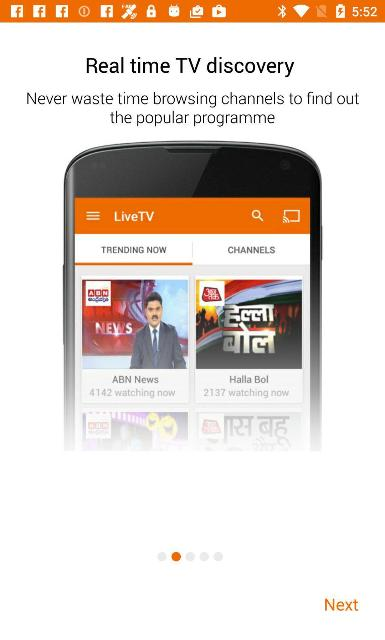Image: (62, 140, 322, 450)
PageIndicator: (156, 550, 224, 562)
Text: (27, 91, 359, 127), (86, 56, 294, 78), (324, 598, 358, 610)
UpperTaskBar: (0, 0, 384, 22)
